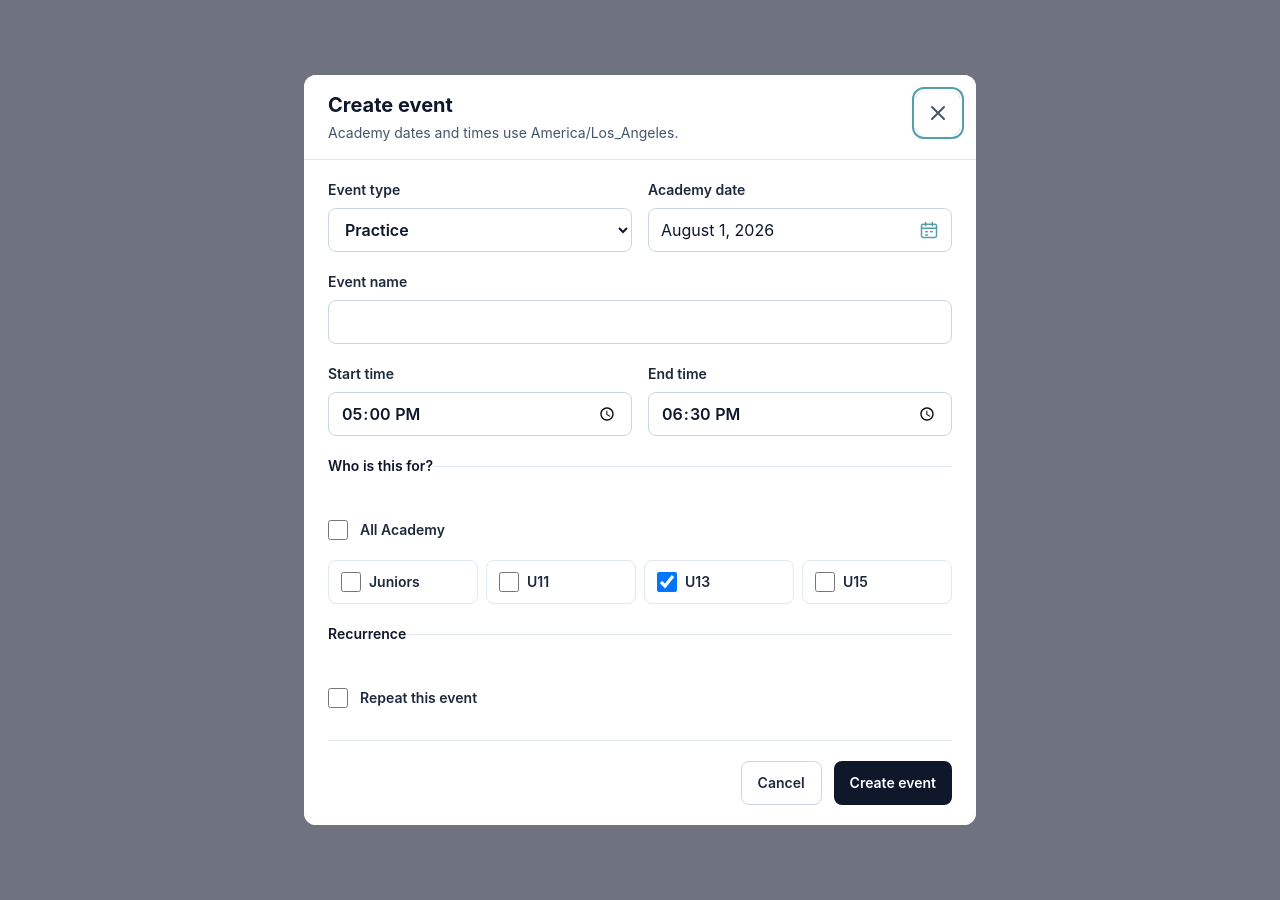
it: EventFormModal › uses safe permission copy and preserves entered values after failure
In the field labelled "Event name": (640, 322) [328,300,952,344], type "Keep this practice"
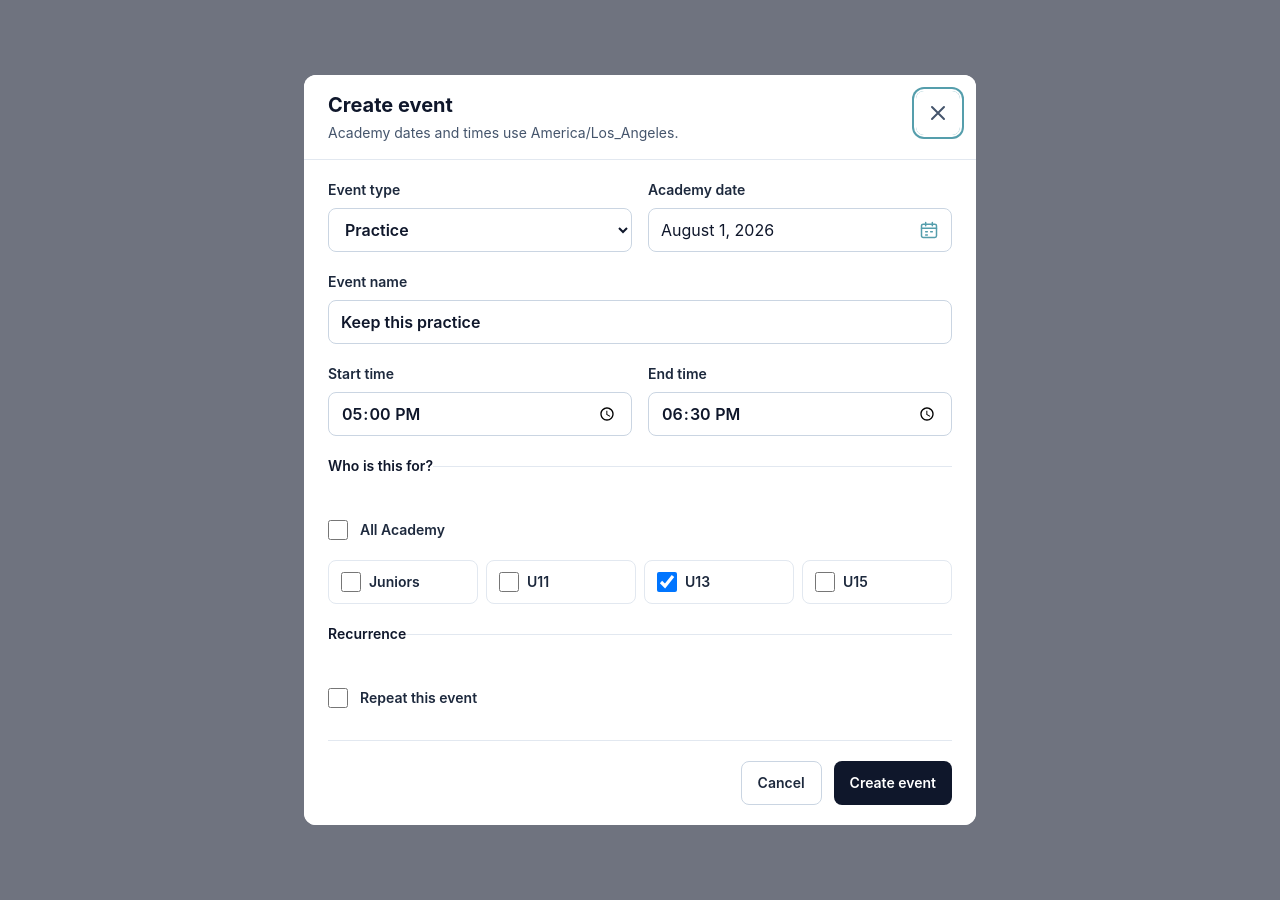
Click the button "Create event": click(893, 783) [834,761,952,805]
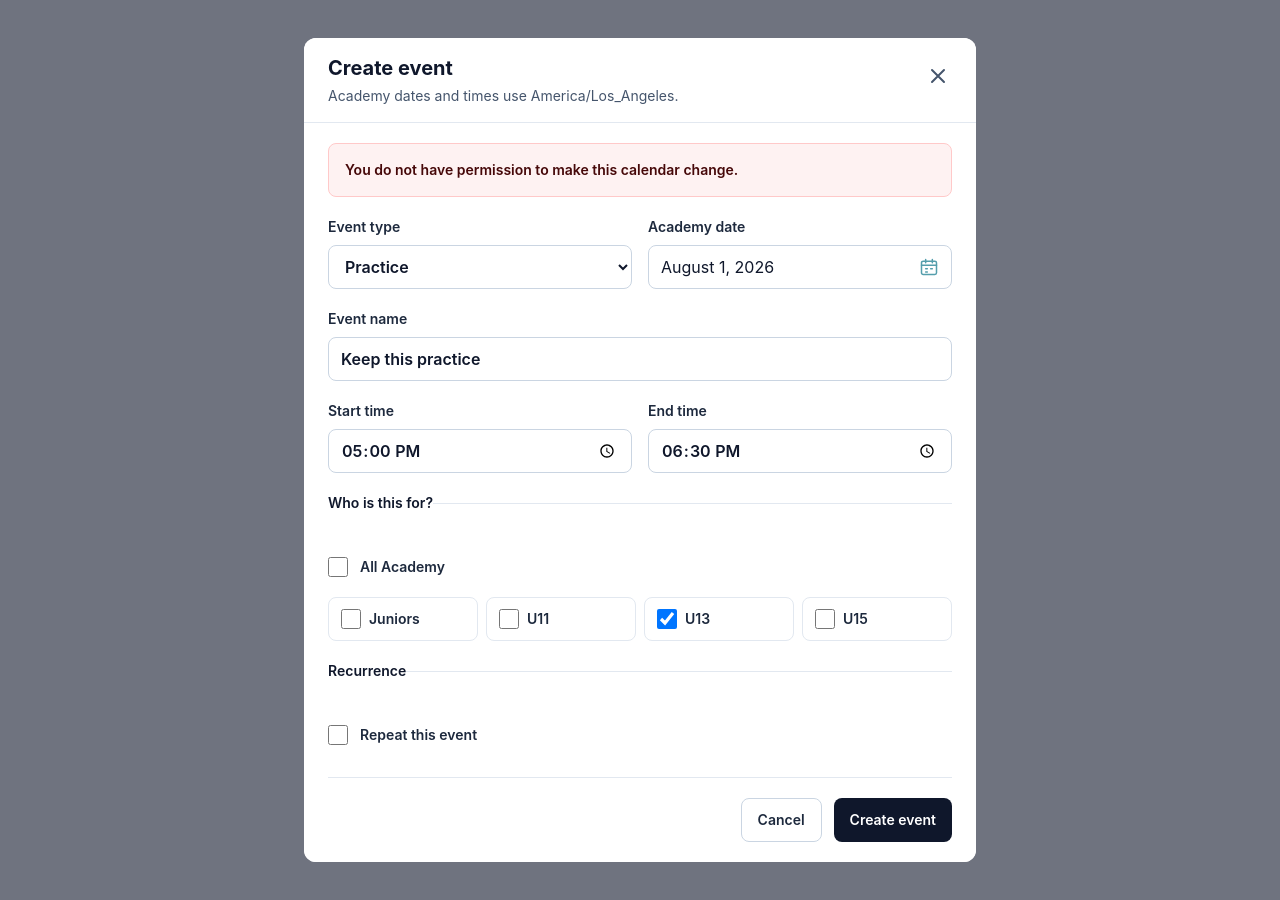
expect the message does not show "middleware": met, box [328,143,952,197]
expect the message reads "You do not have permission to make this calendar change.": met, box [345,161,738,178]
